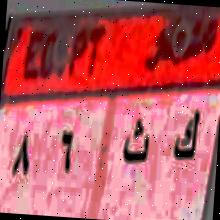6: (58, 123, 75, 176)
8: (10, 131, 32, 181)
kaaf: (170, 108, 200, 167)
thaa: (120, 116, 152, 170)
